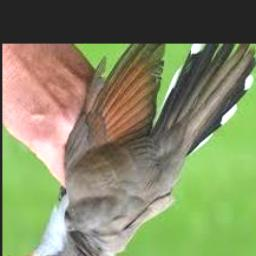Cuckoo: (8, 45, 256, 256)
